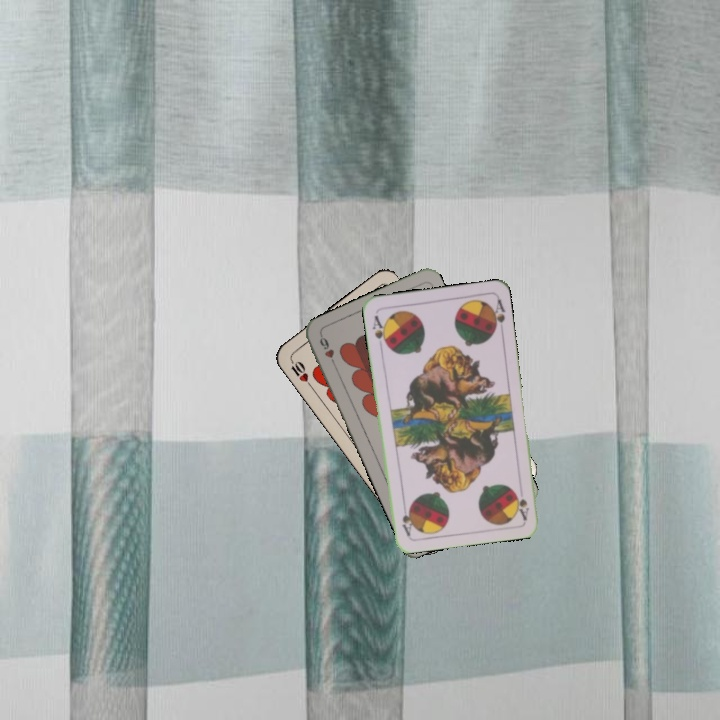H10: (286, 354, 314, 390)
H9: (315, 331, 339, 370)
SA: (368, 311, 390, 350), (511, 488, 532, 522)
